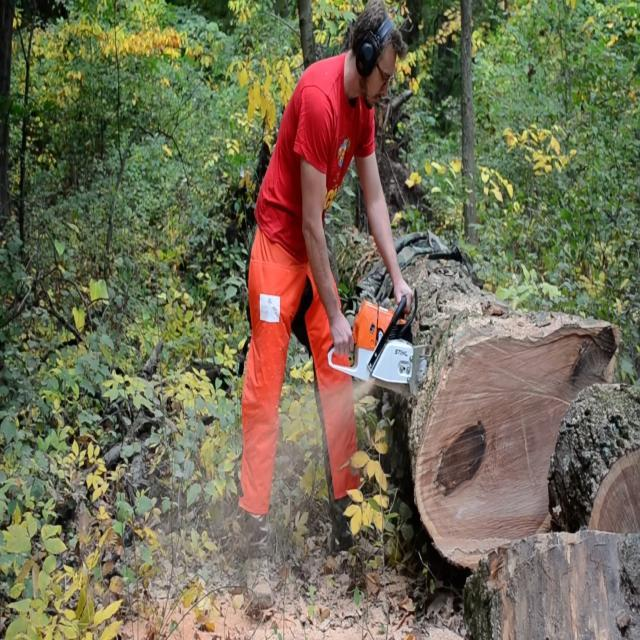Chainsaw: (310, 278, 450, 409)
